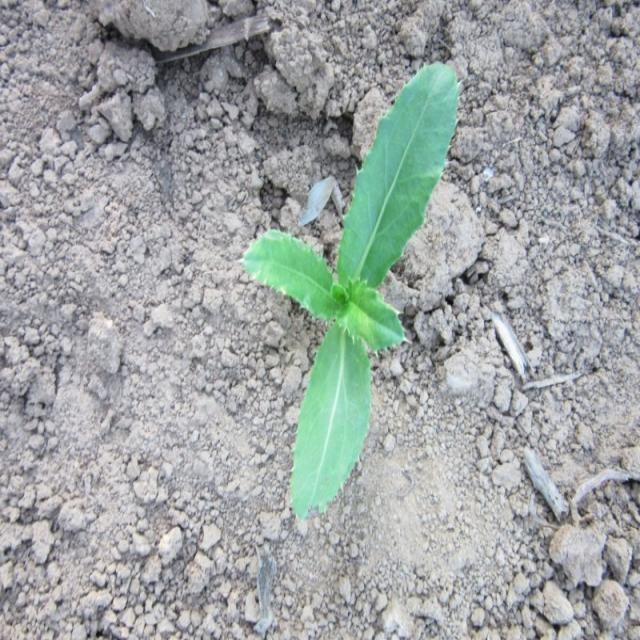cs: (240, 62, 461, 520)
